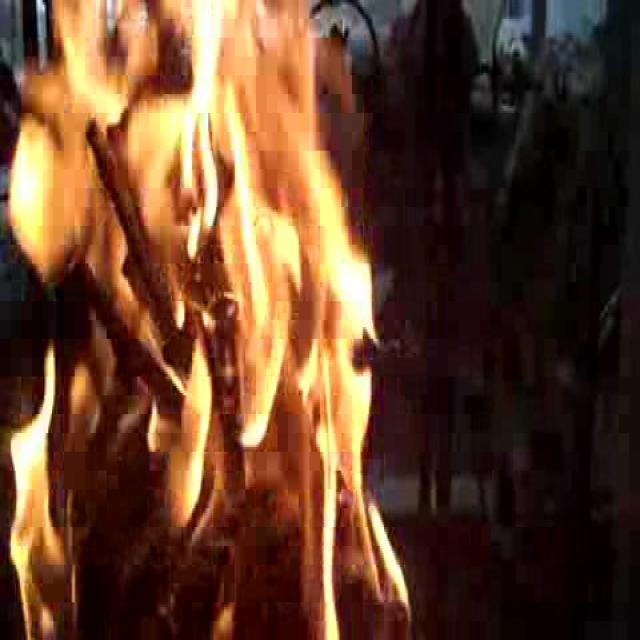Fire: (0, 2, 391, 638)
